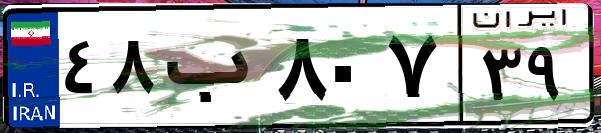0: (330, 28, 385, 110)
3: (475, 38, 525, 113)
4: (57, 26, 110, 100)
7: (385, 28, 445, 110)
8: (270, 28, 330, 110), (110, 28, 158, 98)
9: (525, 38, 570, 115)
ب: (158, 20, 270, 120)
